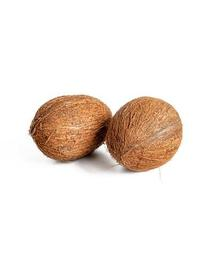coconut: (108, 96, 182, 172), (30, 94, 113, 161)
